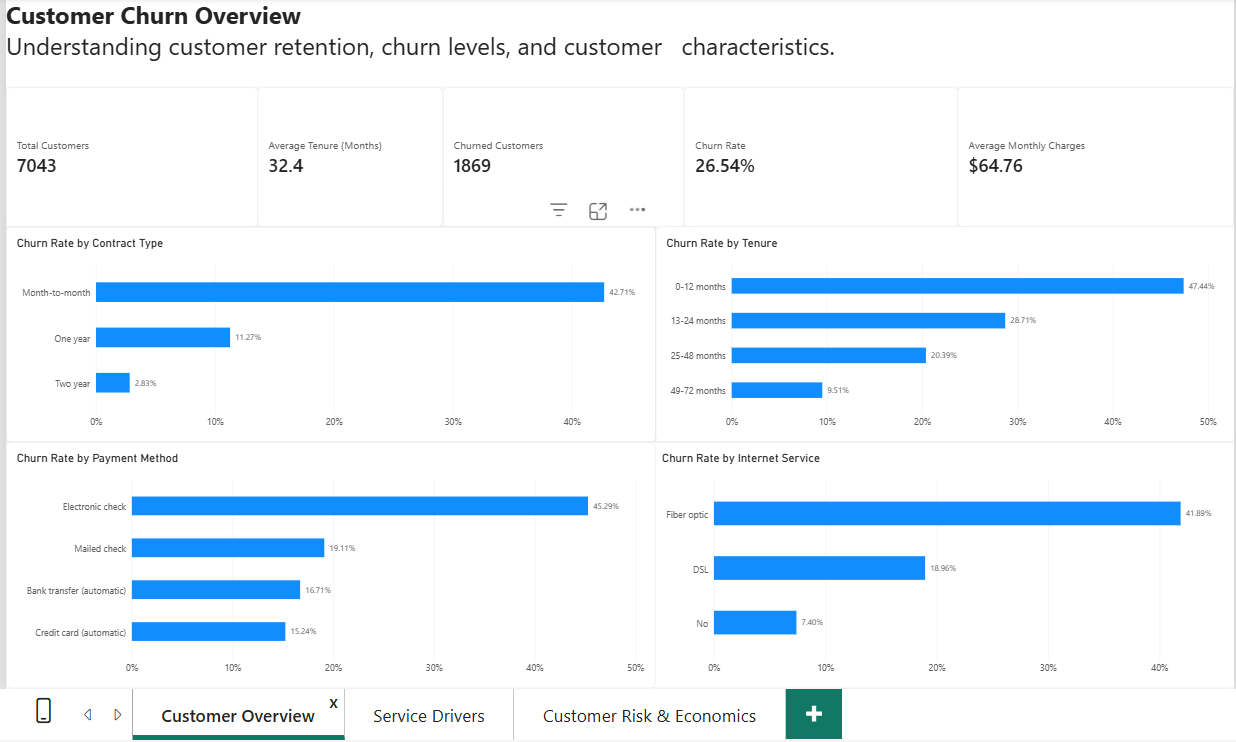

This screenshot's page, from the dashboard's own definition file:
{"tool":"powerbi","page":{"name":"Customer Overview","canvas":[1920,1080],"ordinal":0},"visuals":[{"type":"textbox","box":[0,0,1921,138.6],"z":0},{"type":"cardVisual","fields":{"Data":["CustomerChurn.Total Customers"]},"box":[0,138.6,394.2,219.8],"z":1000},{"type":"cardVisual","fields":{"Data":["CustomerChurn.Churned Customers"]},"box":[683.4,138.6,377.5,219.8],"z":2000},{"type":"cardVisual","fields":{"Data":["CustomerChurn.Churn Rate"]},"box":[1060.9,138.6,427.7,219.8],"z":3000},{"type":"cardVisual","fields":{"Data":["CustomerChurn.Average Monthly Charges"]},"box":[1488.6,138.6,432.5,219.8],"z":4000},{"type":"cardVisual","fields":{"Data":["CustomerChurn.Average Tenure (Months)"]},"box":[394.2,138.6,289.1,219.8],"z":5000},{"type":"clusteredBarChart","title":"Churn Rate by Contract Type","fields":{"Category":["CustomerChurn.Contract"],"Y":["CustomerChurn.Churn Rate"]},"box":[0,358.4,1015.5,336.9],"z":6000},{"type":"clusteredBarChart","title":"Churn Rate by Tenure","fields":{"Category":["CustomerChurn.Tenure Band"],"Y":["CustomerChurn.Churn Rate"]},"box":[1015.5,358.4,905.6,336.9],"z":7000},{"type":"clusteredBarChart","title":"Churn Rate by Internet Service","fields":{"Category":["CustomerChurn.InternetService"],"Y":["CustomerChurn.Churn Rate"]},"box":[1008.3,695.3,912.7,384.7],"z":8000},{"type":"clusteredBarChart","title":"Churn Rate by Payment Method","fields":{"Category":["CustomerChurn.PaymentMethod"],"Y":["CustomerChurn.Churn Rate"]},"box":[0,695.3,1015.5,384.7],"z":9000}]}

Visuals, with their boxes on the page's 1920x1080 design canvas (x1, y1, x2, y2). These are canvas units, not pixel positions in the 1236x742 screenshot, which may show the page scaled, cropped or inside an application window:
textbox: bbox(0, 0, 1921, 139)
cardVisual - CustomerChurn.Total Customers: bbox(0, 139, 394, 358)
cardVisual - CustomerChurn.Churned Customers: bbox(683, 139, 1061, 358)
cardVisual - CustomerChurn.Churn Rate: bbox(1061, 139, 1489, 358)
cardVisual - CustomerChurn.Average Monthly Charges: bbox(1489, 139, 1921, 358)
cardVisual - CustomerChurn.Average Tenure (Months): bbox(394, 139, 683, 358)
"Churn Rate by Contract Type" clusteredBarChart: bbox(0, 358, 1016, 695)
"Churn Rate by Tenure" clusteredBarChart: bbox(1016, 358, 1921, 695)
"Churn Rate by Internet Service" clusteredBarChart: bbox(1008, 695, 1921, 1080)
"Churn Rate by Payment Method" clusteredBarChart: bbox(0, 695, 1016, 1080)
